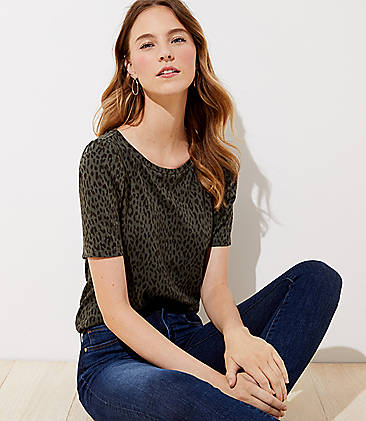C_short blouse: (74, 126, 239, 332)
